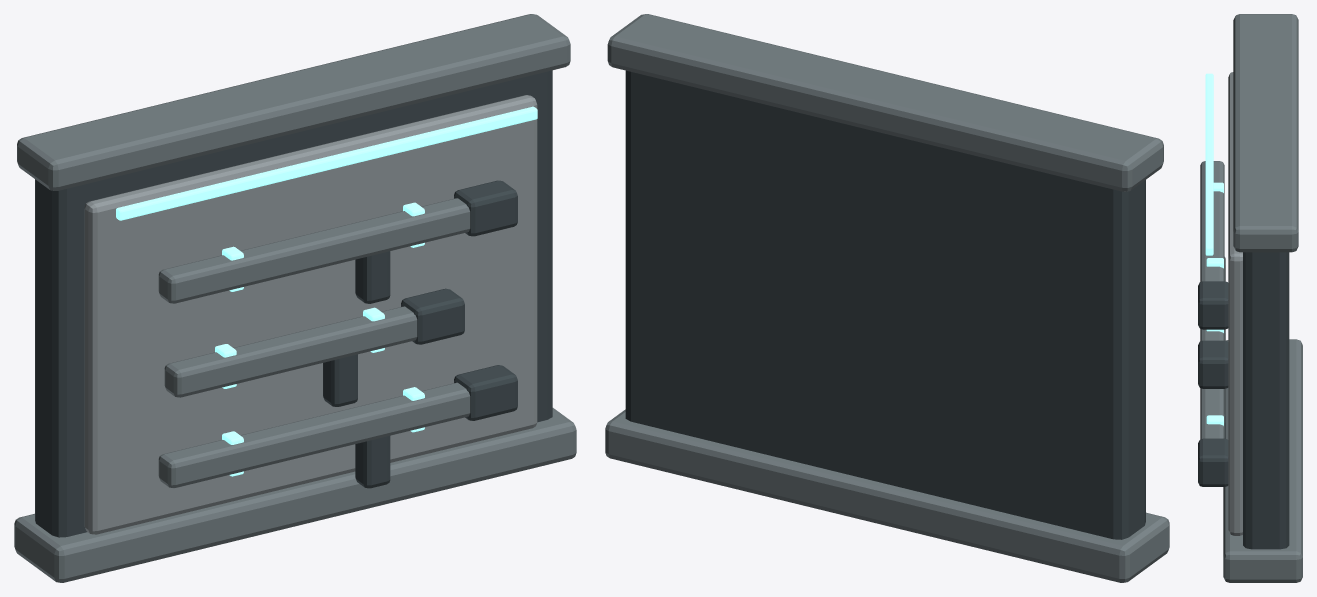
The model's file is WeaponRack_A.fbx.
3 renders of one model, left to right at view 1: azimuth 30°, elevation 25°; view 2: azimuth 150°, elevation 25°; view 3: azimuth 270°, elevation 25°, orthographic. The views are drawn at different scales.
Parts seen in each view (by area): view 1: Weapon Rack Inset, Weapon Rack Crown, Weapon Rack Back, Weapon Rack Base, Display Weapon Body, Display Weapon Body.002, Display Weapon Body.001, Weapon Rack Status Strip, Display Weapon Muzzle, Display Weapon Muzzle.001, Display Weapon Muzzle.002, Display Weapon Grip (+2 smaller); view 2: Weapon Rack Back, Weapon Rack Crown, Weapon Rack Base; view 3: Weapon Rack Crown, Weapon Rack Back, Weapon Rack Base, Weapon Rack Inset, Display Weapon Body, Weapon Rack Status Strip, Display Weapon Muzzle.001, Display Weapon Muzzle, Display Weapon Muzzle.002, Display Weapon Body.002, Display Weapon Body.001, Weapon Mount Right.002 (+1 smaller).
Part boxes in pixels (box(x1,y1,x2,y2)): Weapon Rack Inset: box(84, 95, 537, 534); Weapon Rack Crown: box(17, 14, 570, 190); Weapon Rack Back: box(35, 70, 552, 537); Weapon Rack Base: box(14, 408, 576, 582); Display Weapon Body: box(158, 198, 470, 303); Display Weapon Body.002: box(158, 382, 470, 488); Display Weapon Body.001: box(164, 306, 417, 397); Weapon Rack Status Strip: box(116, 106, 537, 220); Display Weapon Muzzle: box(454, 180, 517, 236); Display Weapon Muzzle.001: box(401, 288, 464, 344); Display Weapon Muzzle.002: box(454, 365, 517, 420); Display Weapon Grip: box(355, 251, 390, 303); Weapon Rack Back: box(625, 70, 1145, 539); Weapon Rack Crown: box(607, 14, 1163, 191); Weapon Rack Base: box(605, 409, 1169, 582); Weapon Rack Crown: box(1233, 14, 1298, 252); Weapon Rack Back: box(1243, 252, 1289, 549); Weapon Rack Base: box(1223, 339, 1302, 582); Weapon Rack Inset: box(1228, 72, 1242, 535); Display Weapon Body: box(1200, 161, 1224, 281); Weapon Rack Status Strip: box(1205, 73, 1213, 255); Display Weapon Muzzle.001: box(1198, 340, 1228, 388); Display Weapon Muzzle: box(1198, 281, 1228, 329); Display Weapon Muzzle.002: box(1198, 438, 1228, 486); Display Weapon Body.002: box(1200, 388, 1224, 439); Display Weapon Body.001: box(1200, 329, 1224, 341); Weapon Mount Right.002: box(1206, 415, 1223, 425).
Bounding box in the file's own units: 3.55 × 2.72 × 0.725.
